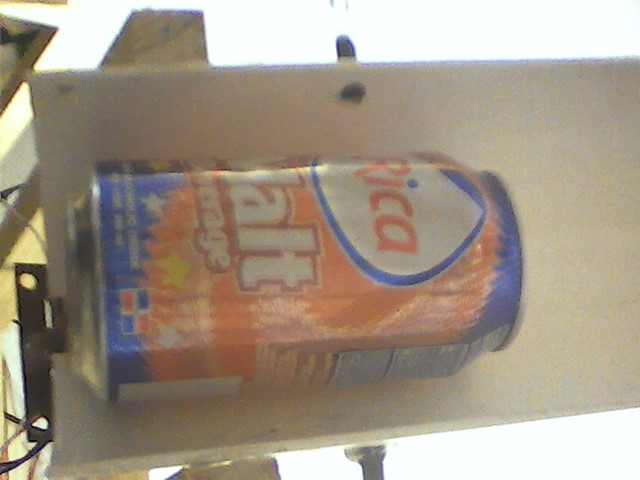lata: (60, 146, 536, 410)
